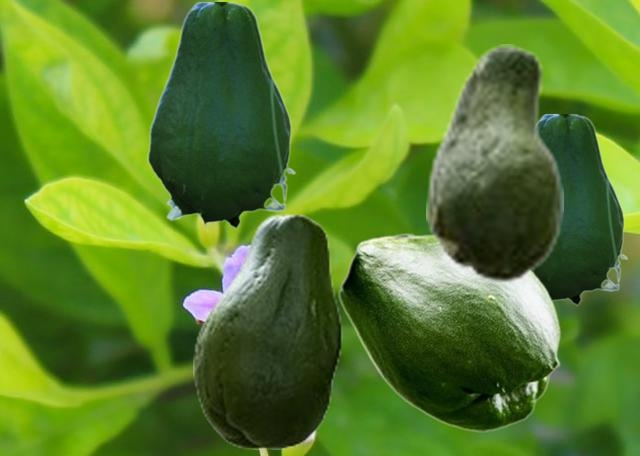sayote: (338, 233, 560, 431), (193, 213, 341, 448), (147, 2, 295, 232), (426, 44, 562, 283), (534, 114, 627, 306)
